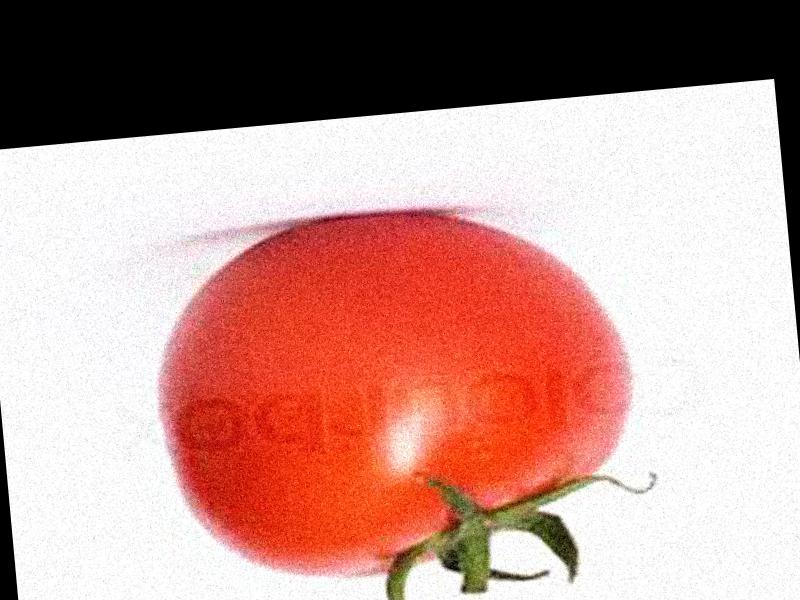Tomato: (145, 197, 642, 594)
